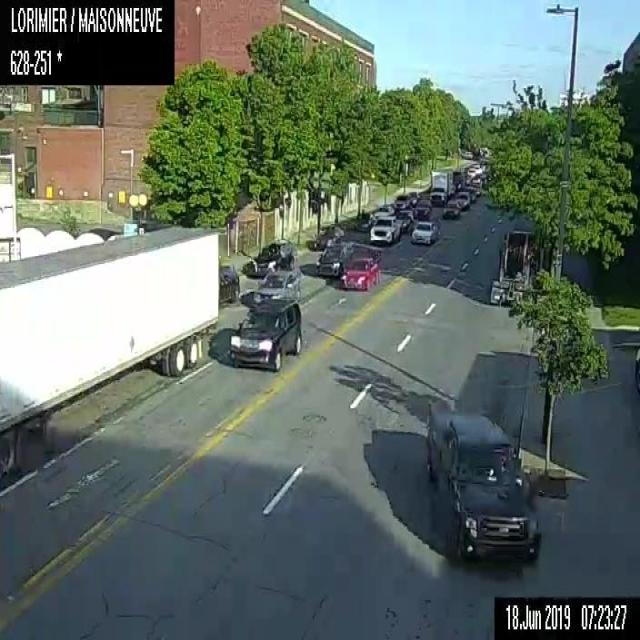vehicle: (0, 223, 219, 477), (426, 411, 540, 560), (228, 296, 301, 371), (487, 228, 538, 306), (252, 240, 294, 276), (253, 269, 300, 301), (316, 240, 352, 276), (341, 257, 378, 288), (369, 215, 402, 244), (313, 223, 346, 250), (430, 168, 452, 204), (218, 264, 238, 301), (411, 220, 436, 243), (354, 210, 376, 230), (413, 198, 431, 218), (396, 210, 412, 230), (442, 199, 459, 217), (393, 193, 411, 209), (454, 190, 470, 208), (373, 204, 394, 217), (452, 170, 464, 190), (408, 190, 421, 206), (465, 186, 476, 202)
